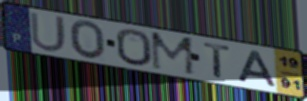A: (237, 49, 280, 90)
M: (149, 30, 198, 78)
O: (68, 19, 108, 61), (114, 28, 154, 68)
T: (201, 41, 233, 81)
U: (29, 11, 69, 54)
